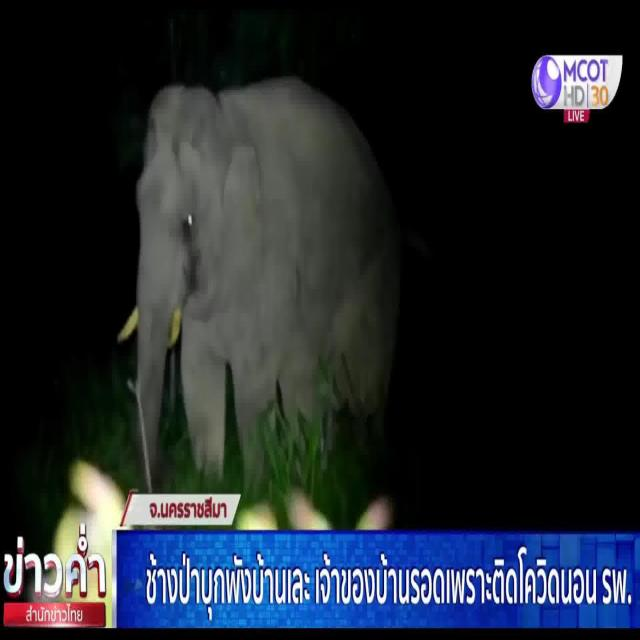Elephant: (115, 58, 385, 421)
